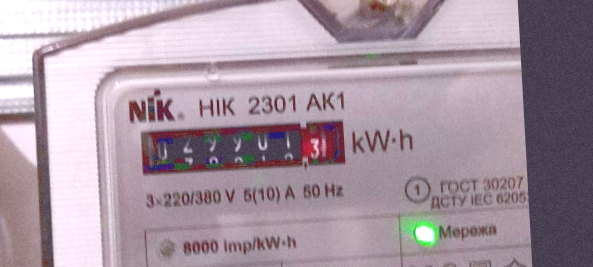0: (254, 126, 270, 152), (153, 138, 169, 160)
1: (281, 125, 294, 149)
2: (179, 131, 195, 154)
3: (306, 135, 322, 159)
9: (230, 130, 243, 153), (205, 130, 218, 152)
screen: (131, 110, 355, 184)
